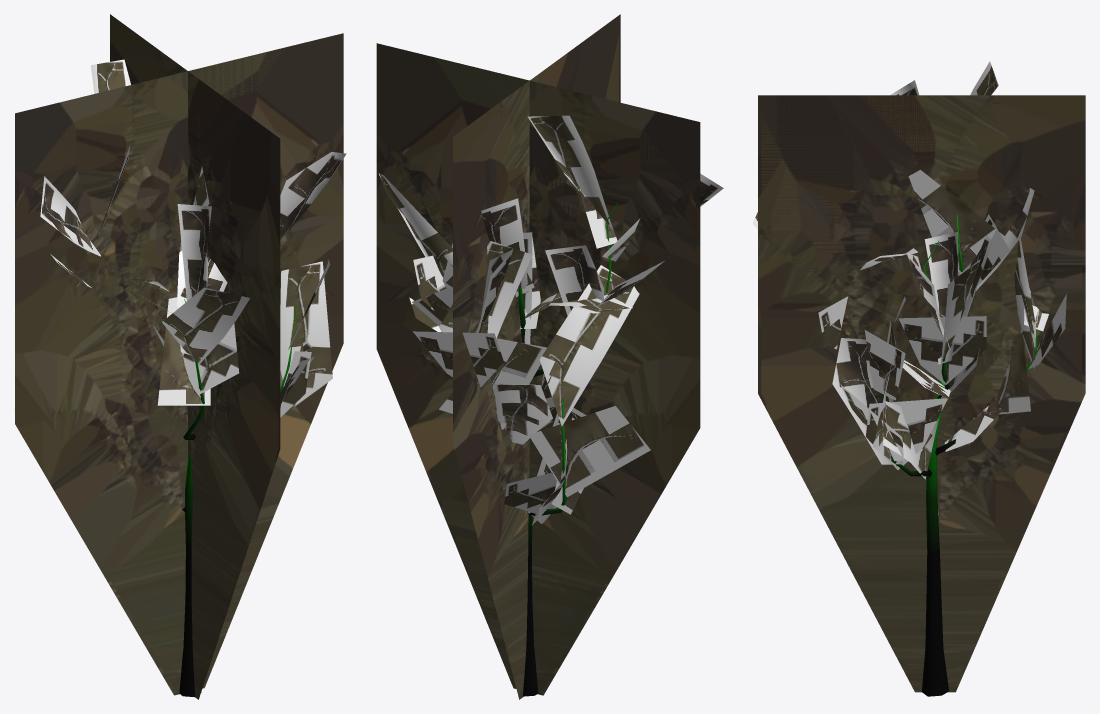
Rendered from RTree1_small.fbx.
3 views of the same model, side by side, from view 1: azimuth 30°, elevation 25°; view 2: azimuth 150°, elevation 25°; view 3: azimuth 270°, elevation 25° (orthographic). The views are drawn at different scales.
Visible parts, largest first — view 1: Billboard, LOD0; view 2: Billboard, LOD0; view 3: Billboard, LOD0.
Part boxes in pixels (<box>): Billboard: <box>15,14,343,699</box>; LOD0: <box>14,59,346,697</box>; Billboard: <box>376,14,700,699</box>; LOD0: <box>375,115,723,696</box>; Billboard: <box>758,95,1085,692</box>; LOD0: <box>752,61,1066,696</box>.
Size of what is drawn, in the model's own units: 147 by 265 by 133.
